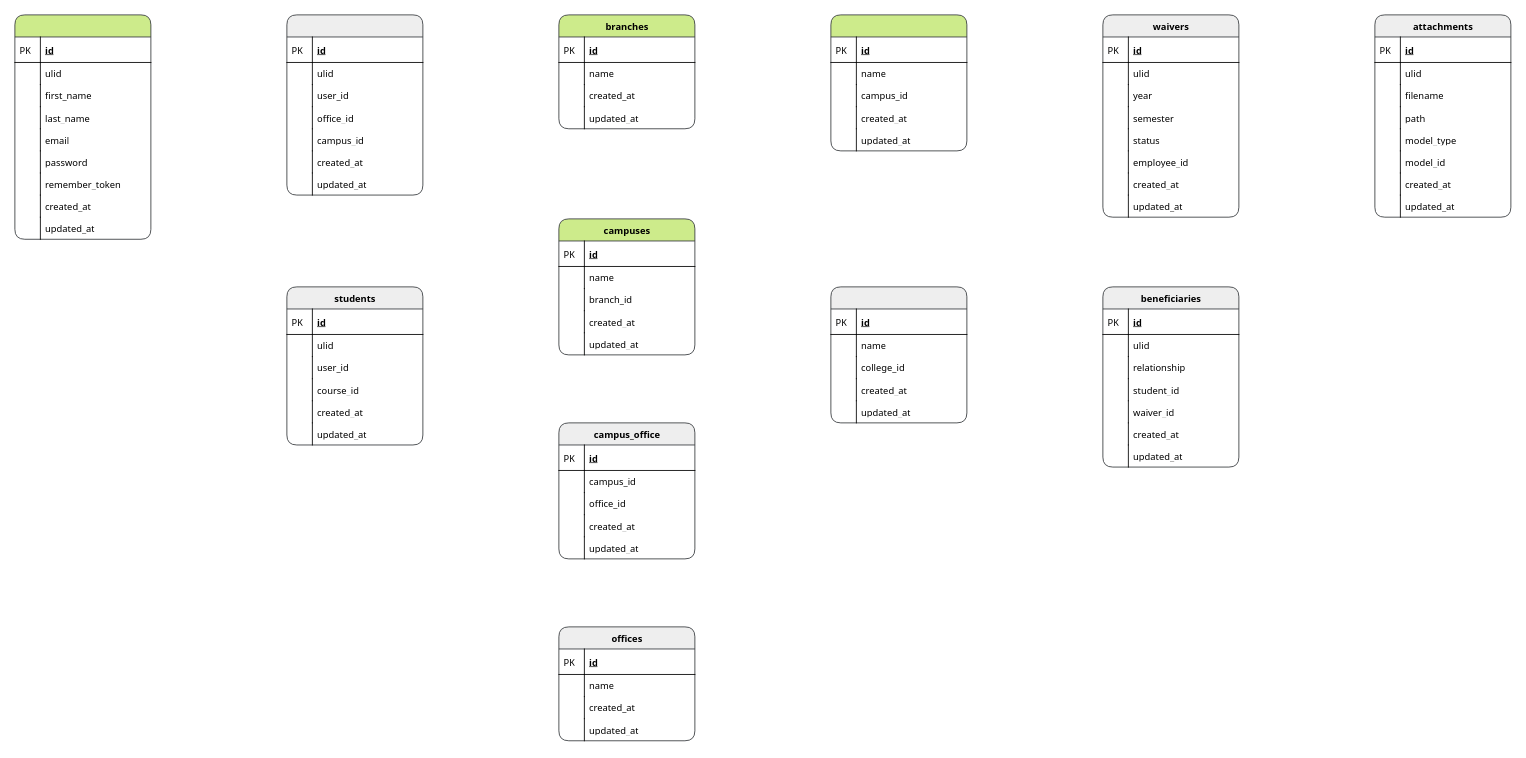
Image size: 1526x758. Some labels were removed from this diagram. Each missing label, with the box of its shape:
colleges: (830, 14, 967, 151)
courses: (830, 286, 967, 423)
employees: (286, 14, 423, 195)
users: (14, 14, 151, 239)
